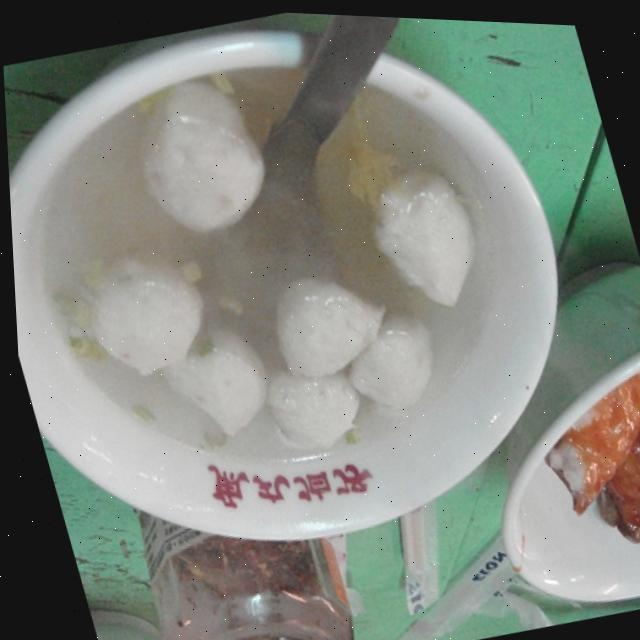熟制海鲜: (0, 0, 605, 570)
